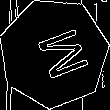M_W: (22, 23, 86, 84)
